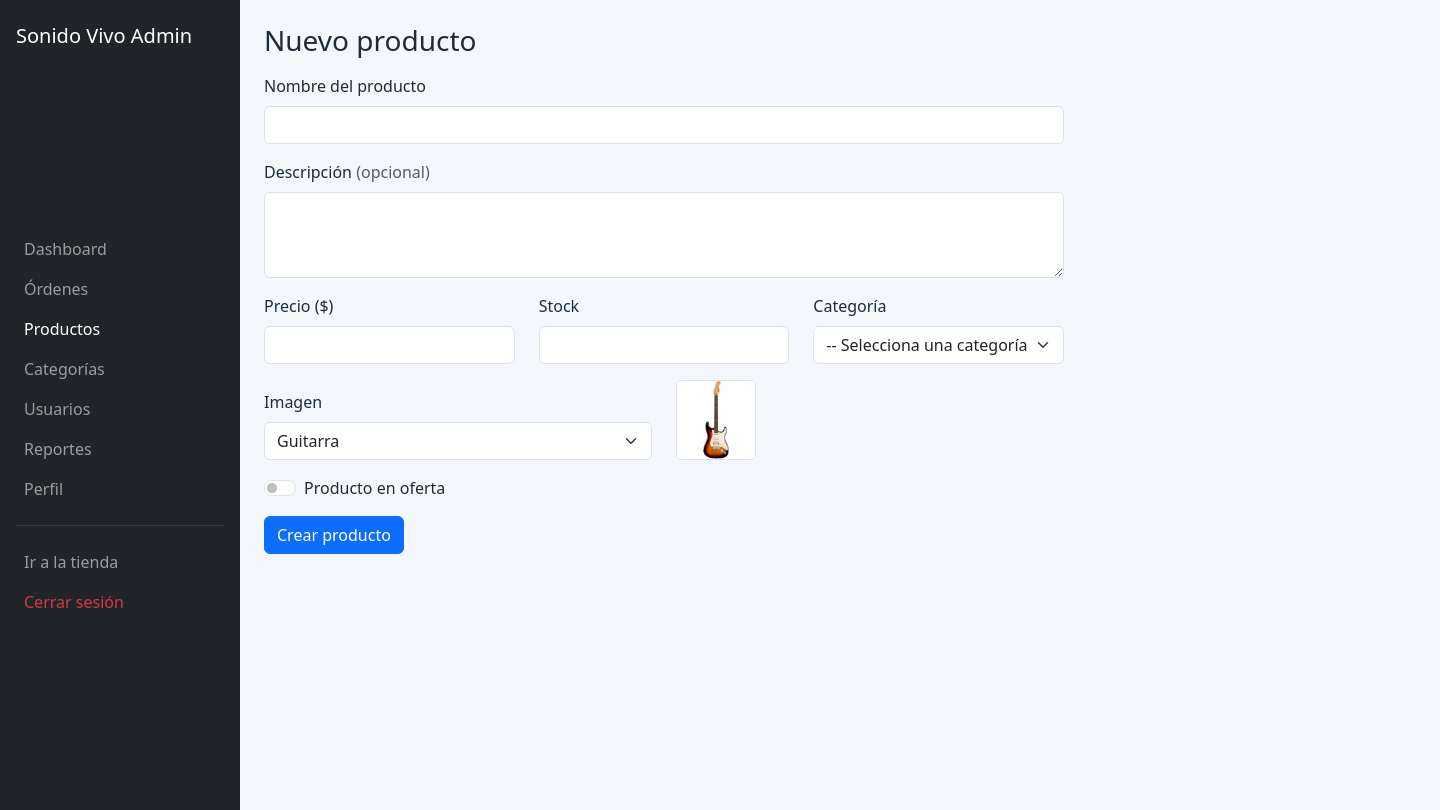
Test: Nuevo y editar producto › con el formulario vacío muestra errores y no guarda
Click the button "Crear producto".
click(334, 535)  # box [264,516,404,554]
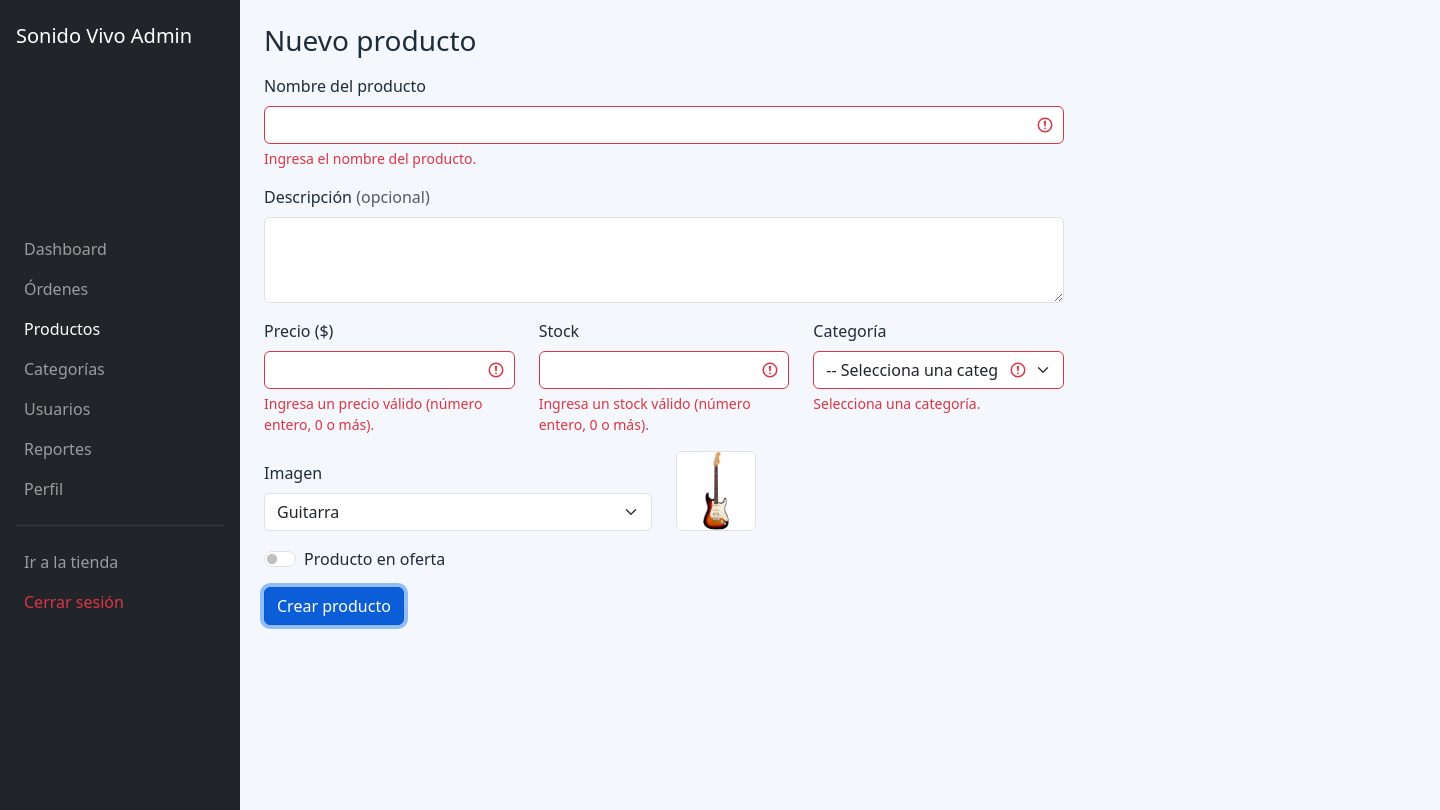
Check: the text "Ingresa el nombre del producto." is shown, box [264,149,476,168]
Check: the text "Selecciona una categoría." is shown, box [813,394,980,413]
